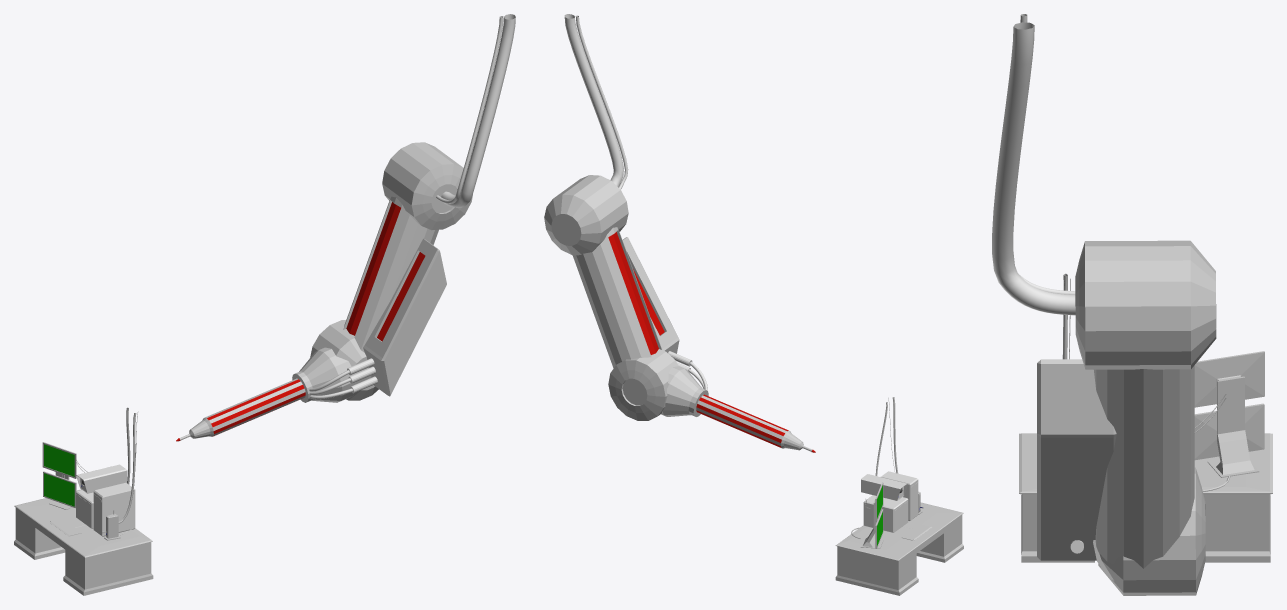
File: menu_scene.fbx
3 renders of one model, left to right at view 1: azimuth 30°, elevation 25°; view 2: azimuth 150°, elevation 25°; view 3: azimuth 270°, elevation 25°, orthographic. The views are drawn at different scales.
Parts seen in each view (by area): view 1: Cube.013, Cube, BezierCurve.010, Cube.002, Cube.011, Cube.012, BezierCurve.014; view 2: Cube.013, Cube, BezierCurve.010, Cube.001, Cube.012, Cube.002, BezierCurve.014, Cube.011; view 3: Cube.013, Cube, Cube.002, BezierCurve.010.
Boxes of the visible parts, x1,y1,x2,y2 form: Cube.013: (176, 142, 472, 441); Cube: (14, 489, 153, 595); BezierCurve.010: (441, 14, 515, 207); Cube.002: (42, 442, 76, 509); Cube.011: (93, 482, 135, 536); Cube.012: (76, 464, 126, 493); BezierCurve.014: (436, 16, 503, 203); Cube.013: (544, 175, 815, 452); Cube: (835, 502, 963, 595); BezierCurve.010: (564, 14, 623, 187); Cube.001: (863, 495, 908, 532); Cube.012: (861, 474, 907, 500); Cube.002: (860, 482, 883, 548); BezierCurve.014: (575, 15, 628, 189); Cube.011: (881, 471, 918, 520); Cube.013: (1037, 240, 1216, 595); Cube: (1019, 433, 1272, 562); Cube.002: (1194, 351, 1264, 477); BezierCurve.010: (992, 22, 1075, 315).
Size of the model in its own units: 2221 by 2340 by 698.
